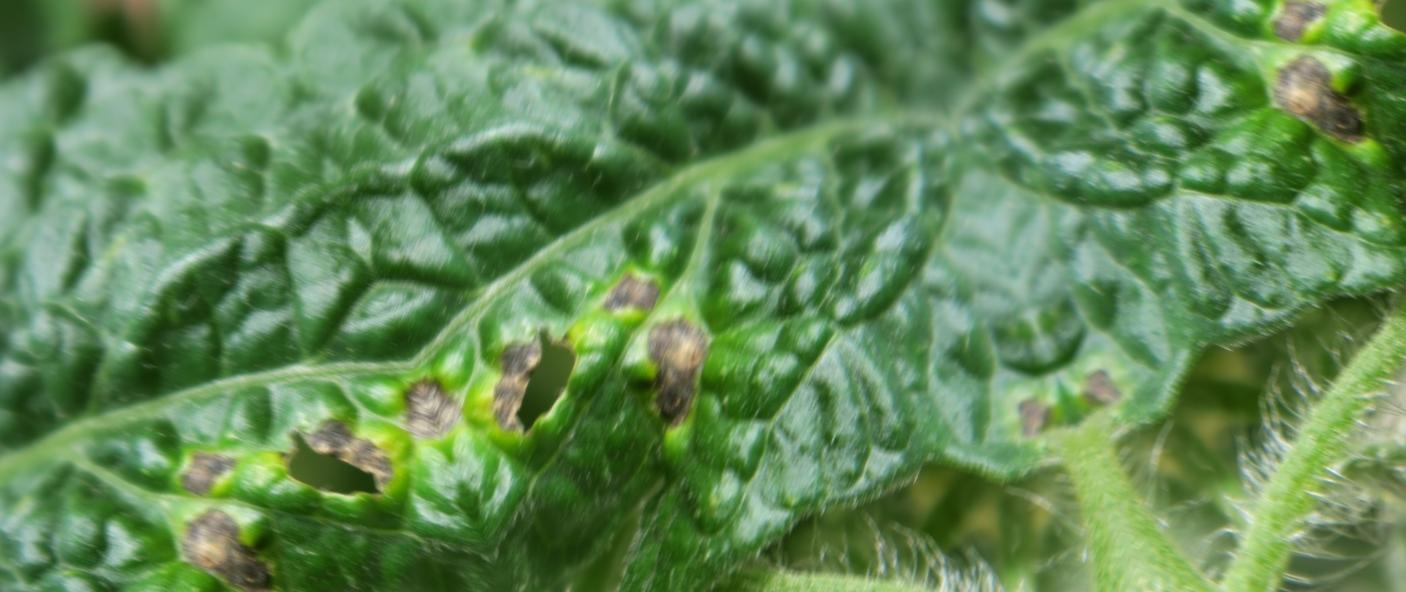Tomato leaf bacterial spot: (267, 0, 1172, 592)
